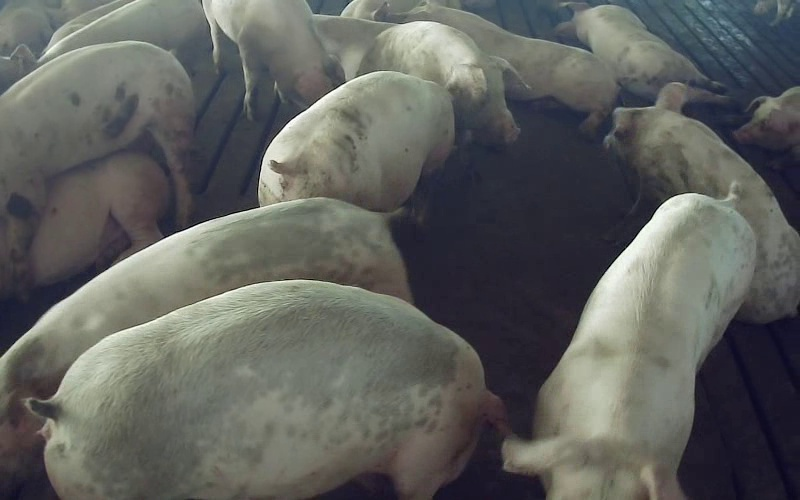pig: (29, 281, 504, 499), (502, 187, 754, 499), (0, 41, 193, 296), (604, 84, 799, 322), (400, 4, 617, 137), (258, 72, 453, 211), (359, 21, 520, 145), (30, 152, 170, 285), (557, 2, 731, 104), (203, 0, 340, 118)
